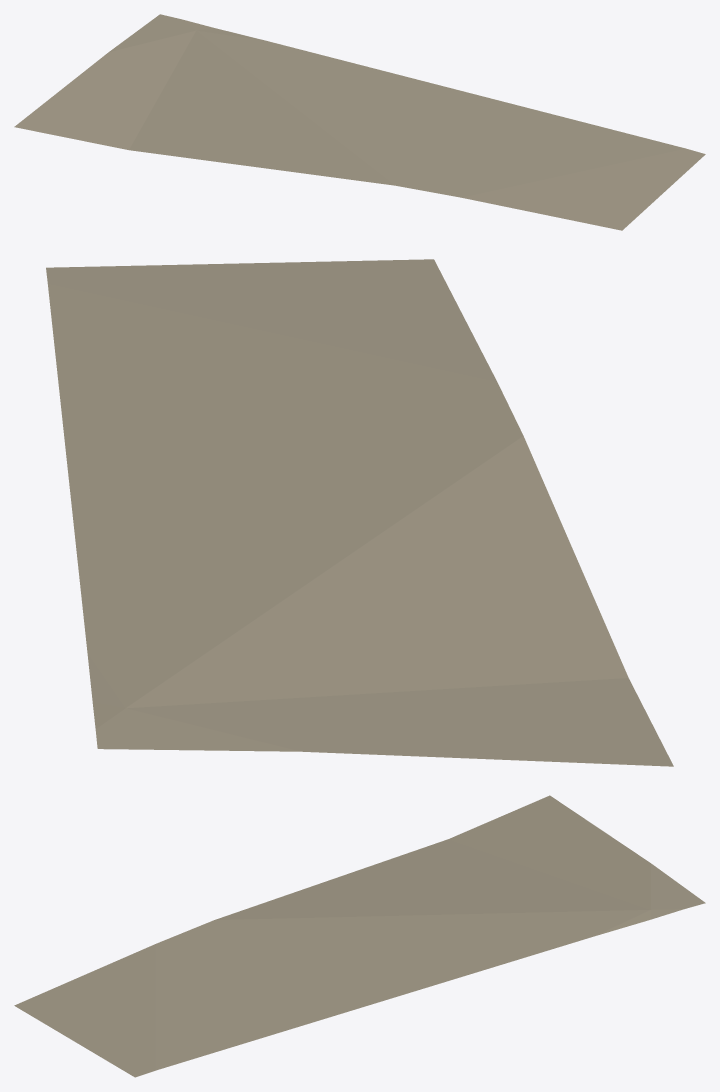
Rendered from farm_29_11_soil.glb.
The picture shows the model from 3 angles, top to bottom: view 1: azimuth 30°, elevation 25°; view 2: azimuth 150°, elevation 25°; view 3: azimuth 270°, elevation 25°; orthographic projection. The views are drawn at different scales.
Parts seen in each view (by area): view 1: geometry_0; view 2: geometry_0; view 3: geometry_0.
Boxes of the visible parts, bbox=[...] form: geometry_0: bbox=[14, 14, 705, 230]; geometry_0: bbox=[46, 259, 673, 766]; geometry_0: bbox=[14, 795, 705, 1077].
Size of the model in its own units: 103 by 4.24 by 112.
